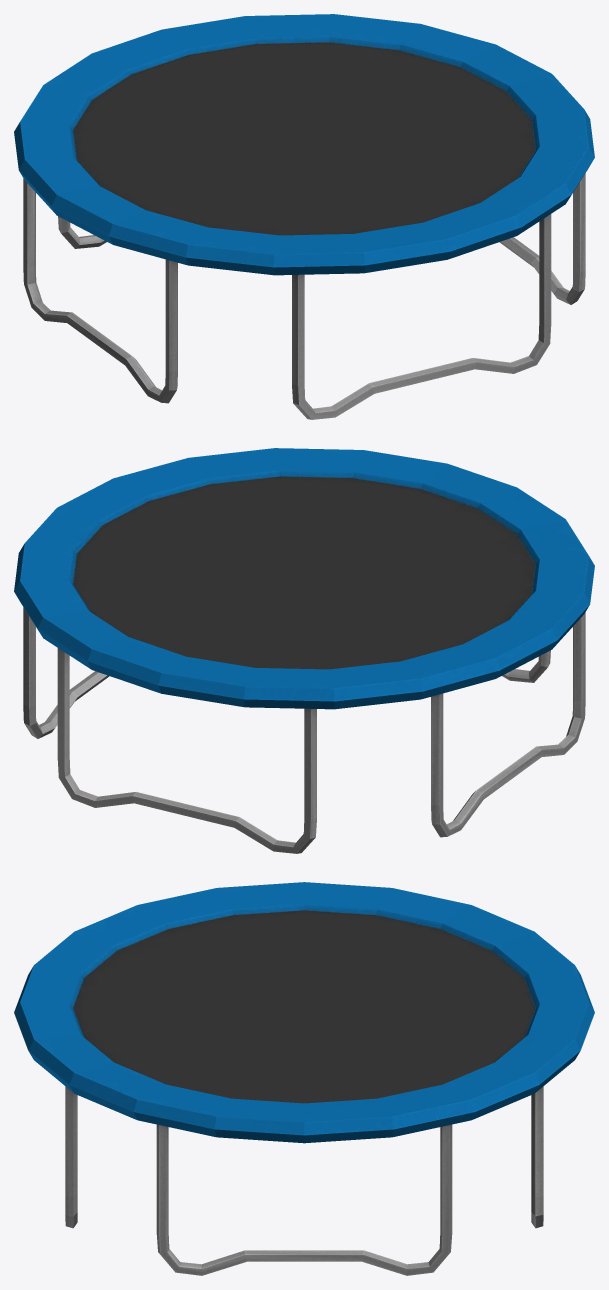
Rendered from Trampoline.glb.
3 renders of one model, top to bottom at view 1: azimuth 30°, elevation 25°; view 2: azimuth 150°, elevation 25°; view 3: azimuth 270°, elevation 25°, orthographic.
Parts seen in each view (by area): view 1: Trampoline_Mesh; view 2: Trampoline_Mesh; view 3: Trampoline_Mesh.
Boxes of the visible parts, <box> form: Trampoline_Mesh: <box>14,14,594,419</box>; Trampoline_Mesh: <box>14,448,594,853</box>; Trampoline_Mesh: <box>14,882,594,1275</box>.
Bounding box in the file's own units: 10.76 × 3.57 × 10.76.
Materials: 1 (1 with a texture image).
